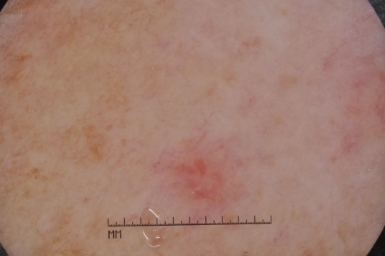melanoma: (158, 142, 241, 217), (324, 64, 385, 163)
